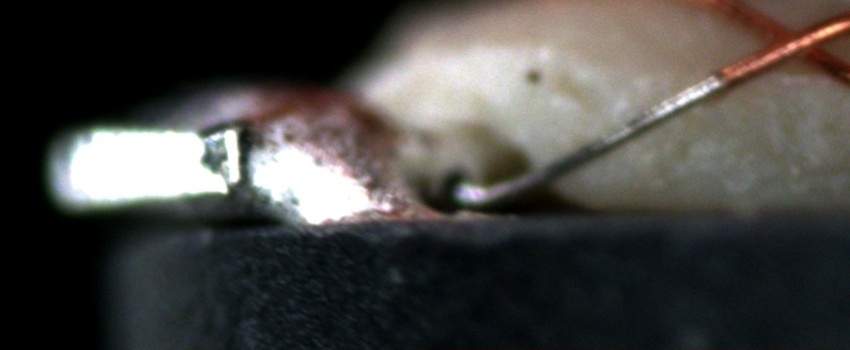CL: (752, 11, 843, 75)
DL: (621, 56, 849, 94)
TS: (451, 74, 725, 207)
